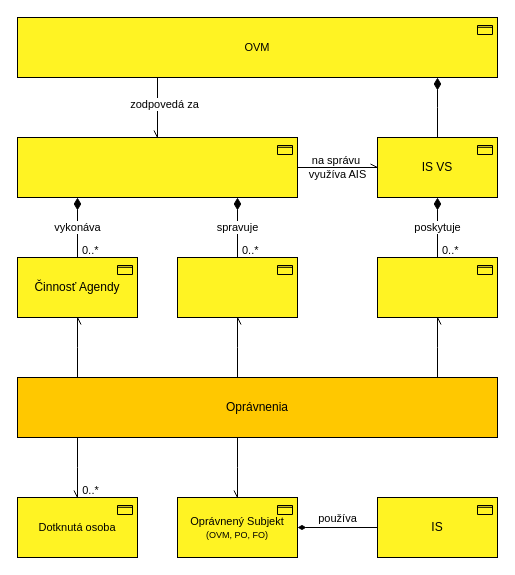
Some shapes in this 515 by 575 pixel diagram are drawn without their labels. Each missing label, with the centre of its shape:
"Agenda" belongs at [157,167].
"Objekt evidencie" belongs at [237,287].
"Služba" belongs at [437,287].
